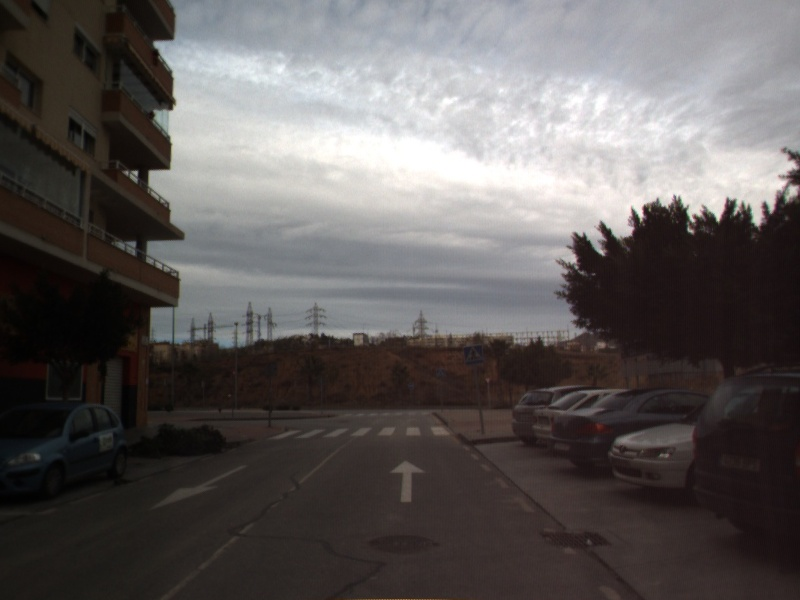STRAIGHT: (388, 458, 429, 504)
